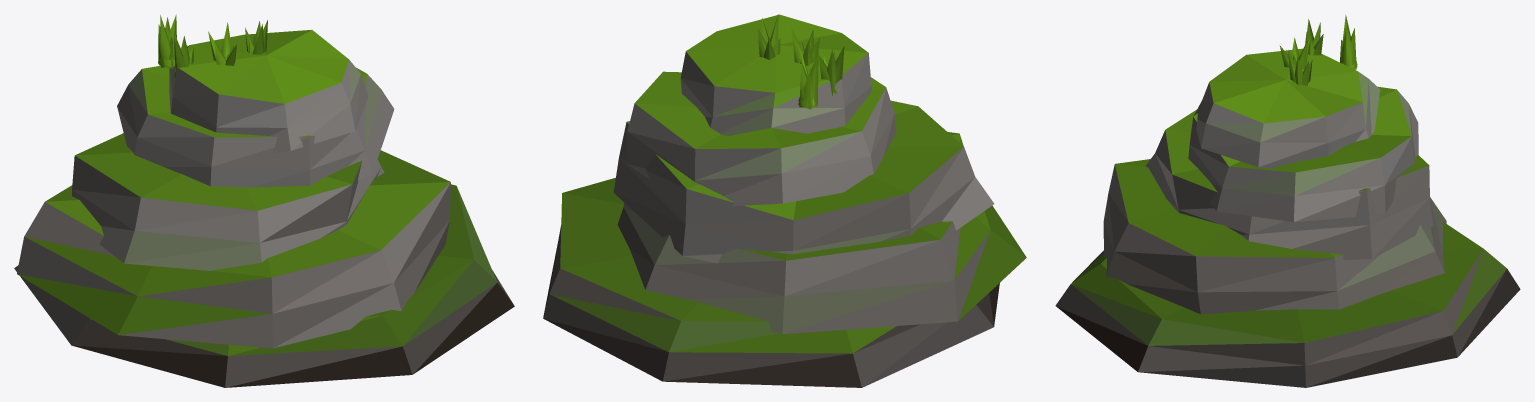
The model's file is batu_slate_limestone_1997.glb.
3 views of the same model, side by side, from view 1: azimuth 30°, elevation 25°; view 2: azimuth 150°, elevation 25°; view 3: azimuth 270°, elevation 25° (orthographic). The views are drawn at different scales.
Visible parts, largest first — view 1: Batu_Pipih_Bertumpuk; view 2: Batu_Pipih_Bertumpuk; view 3: Batu_Pipih_Bertumpuk.
Boxes of the visible parts, x1,y1,x2,y2 form: Batu_Pipih_Bertumpuk: (14,14,514,387); Batu_Pipih_Bertumpuk: (543,14,1026,387); Batu_Pipih_Bertumpuk: (1055,14,1520,387).
Bounding box in the file's own units: 4.99 × 3.08 × 5.21.
